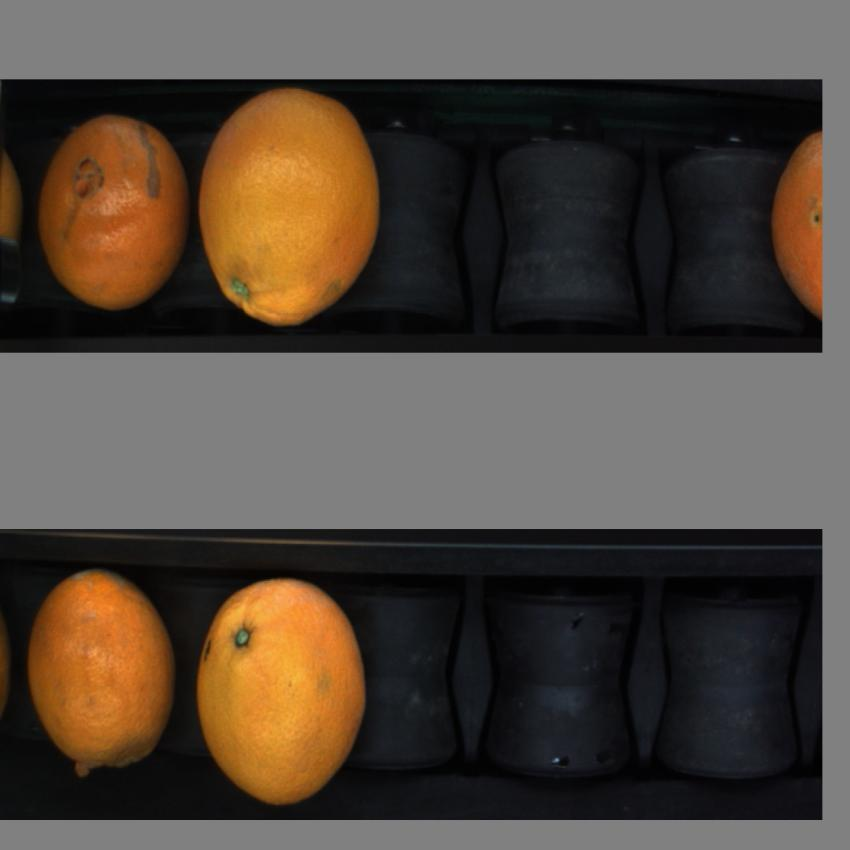Buen estado: (199, 90, 390, 342), (194, 556, 378, 816), (35, 99, 191, 325), (756, 117, 826, 323)
Mal estado: (24, 562, 184, 782)
